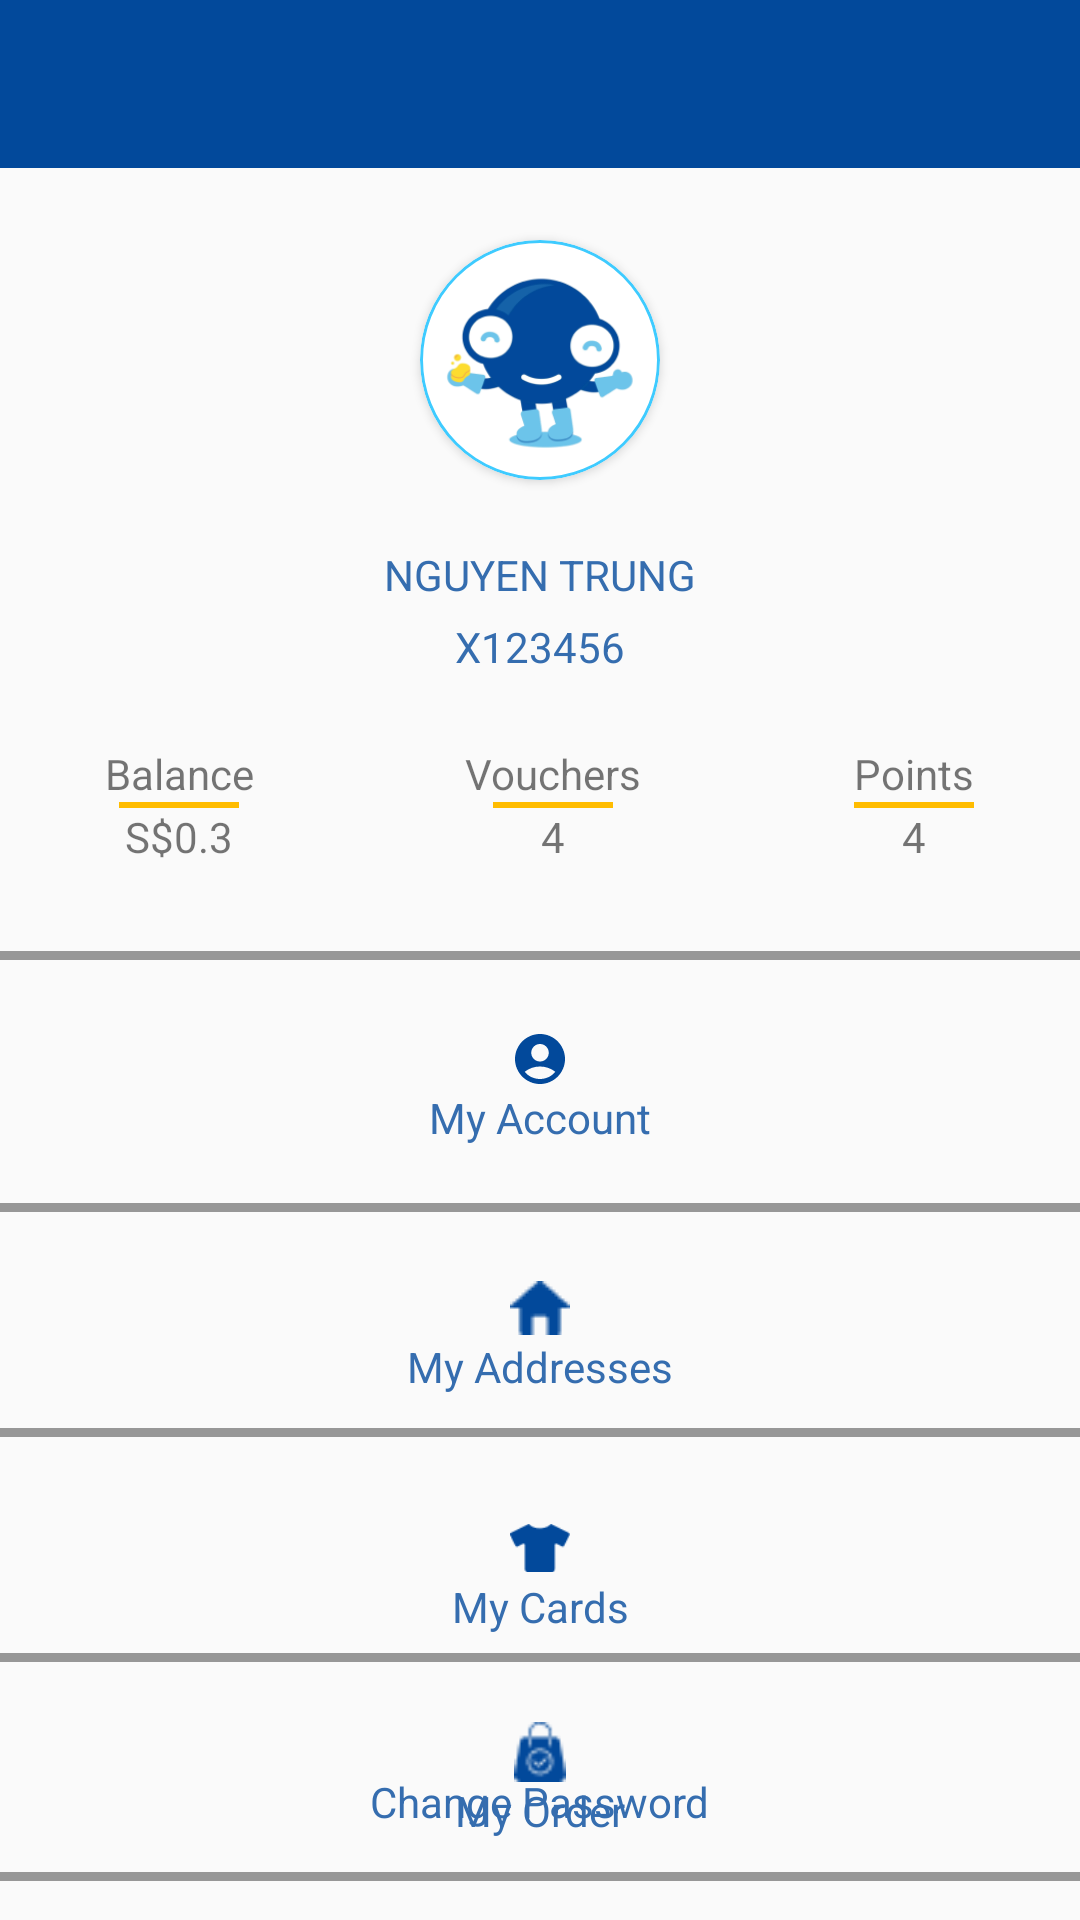

Screen size 1080px x 1920px. Icon name, then its box in pixels as (x1, y1, x2, y2):
bag: (514, 1722, 566, 1782)
home: (510, 1281, 570, 1335)
tshirt: (510, 1524, 570, 1572)
user: (515, 1034, 565, 1084)
